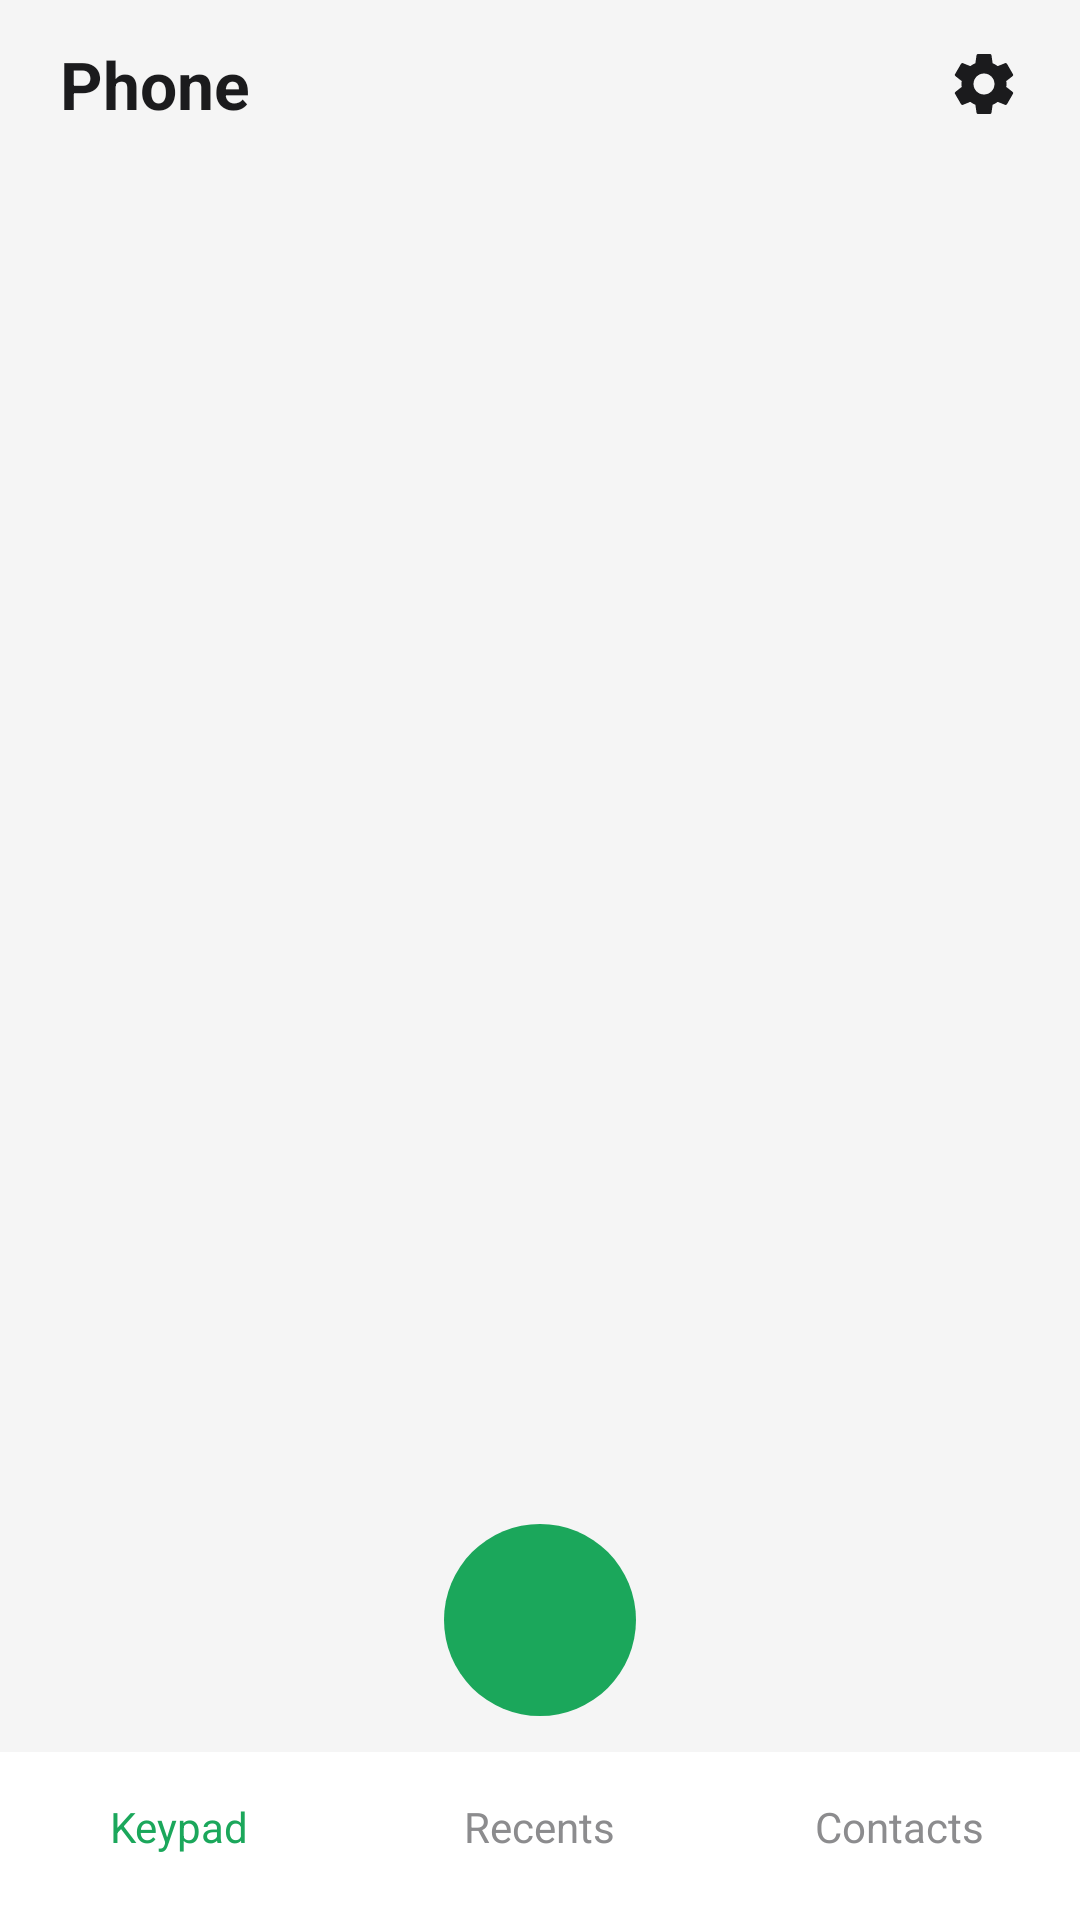

Icon click points for this 1080 × 1920 phone screenshot, format (x,y):
Settings: (983,84)
